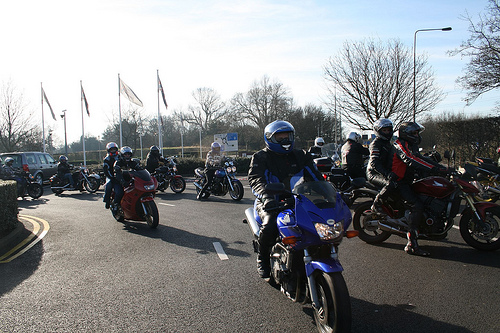helmet: (261, 119, 298, 152), (400, 122, 423, 142), (372, 119, 395, 134), (106, 140, 117, 151), (119, 147, 133, 155)
